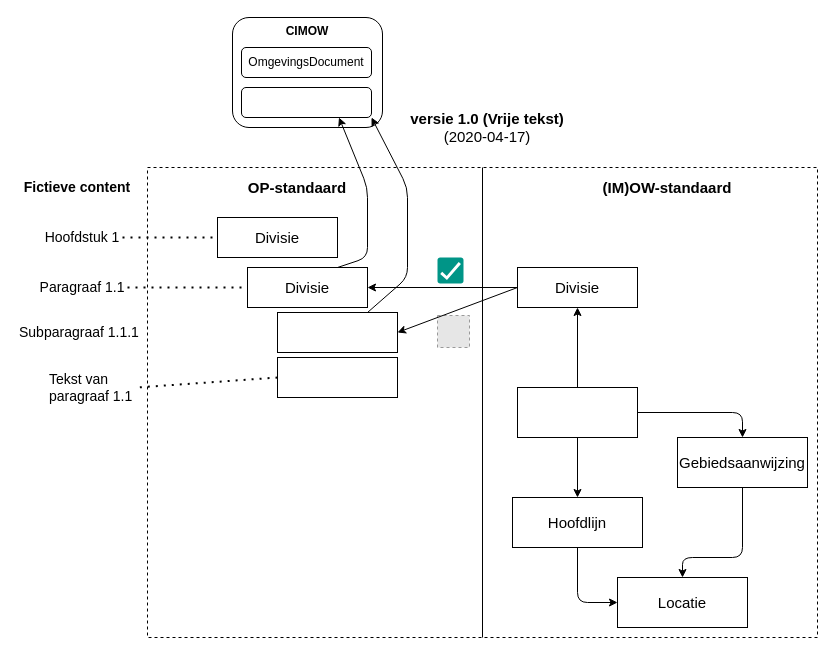
Some shapes in this 835 by 656 pixel diagram are drawn without their labels. Grey dashed boxes stand in for pictures. Here are the shapes that lost their labels. From the top down, the centre of each, then its label:
(306,102): DocumentComponent (wId)
(337,332): Divisietekst (wel wId)
(337,377): Inhoud (geen wId)
(577,412): Tekstdeel
